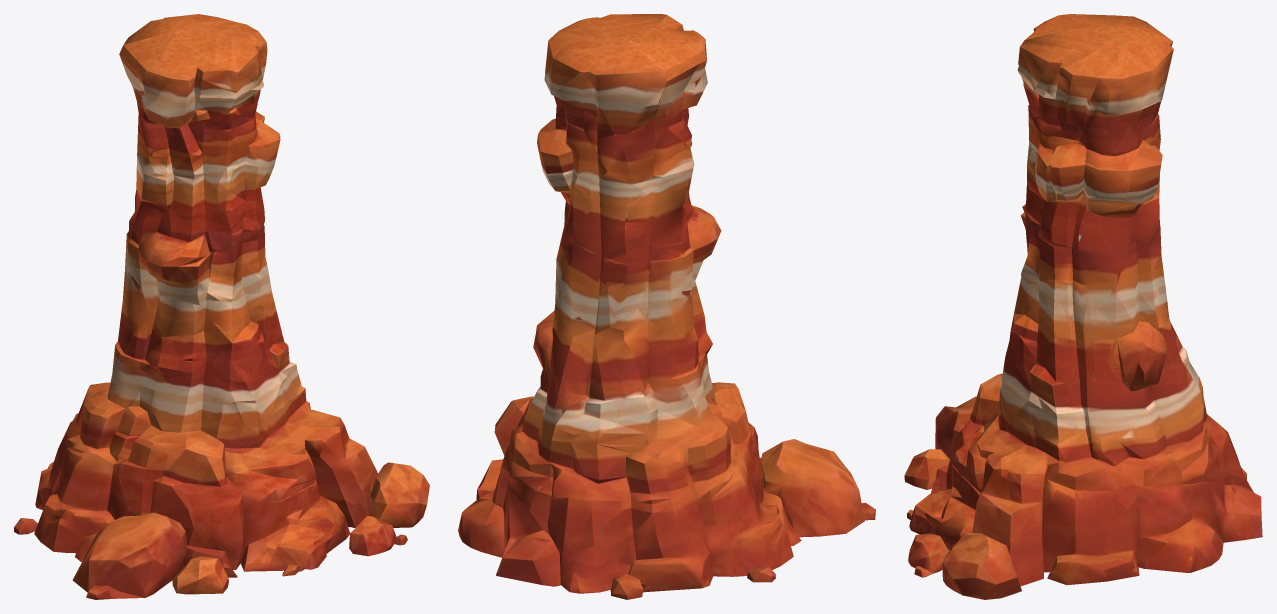
The model's file is desert_rock.glb.
The picture shows the model from 3 angles, left to right: view 1: azimuth 30°, elevation 25°; view 2: azimuth 150°, elevation 25°; view 3: azimuth 270°, elevation 25°; orthographic projection. The views are drawn at different scales.
Size of the model in its own units: 1.47 by 1.9 by 1.28.
1 material, 1 textured.
